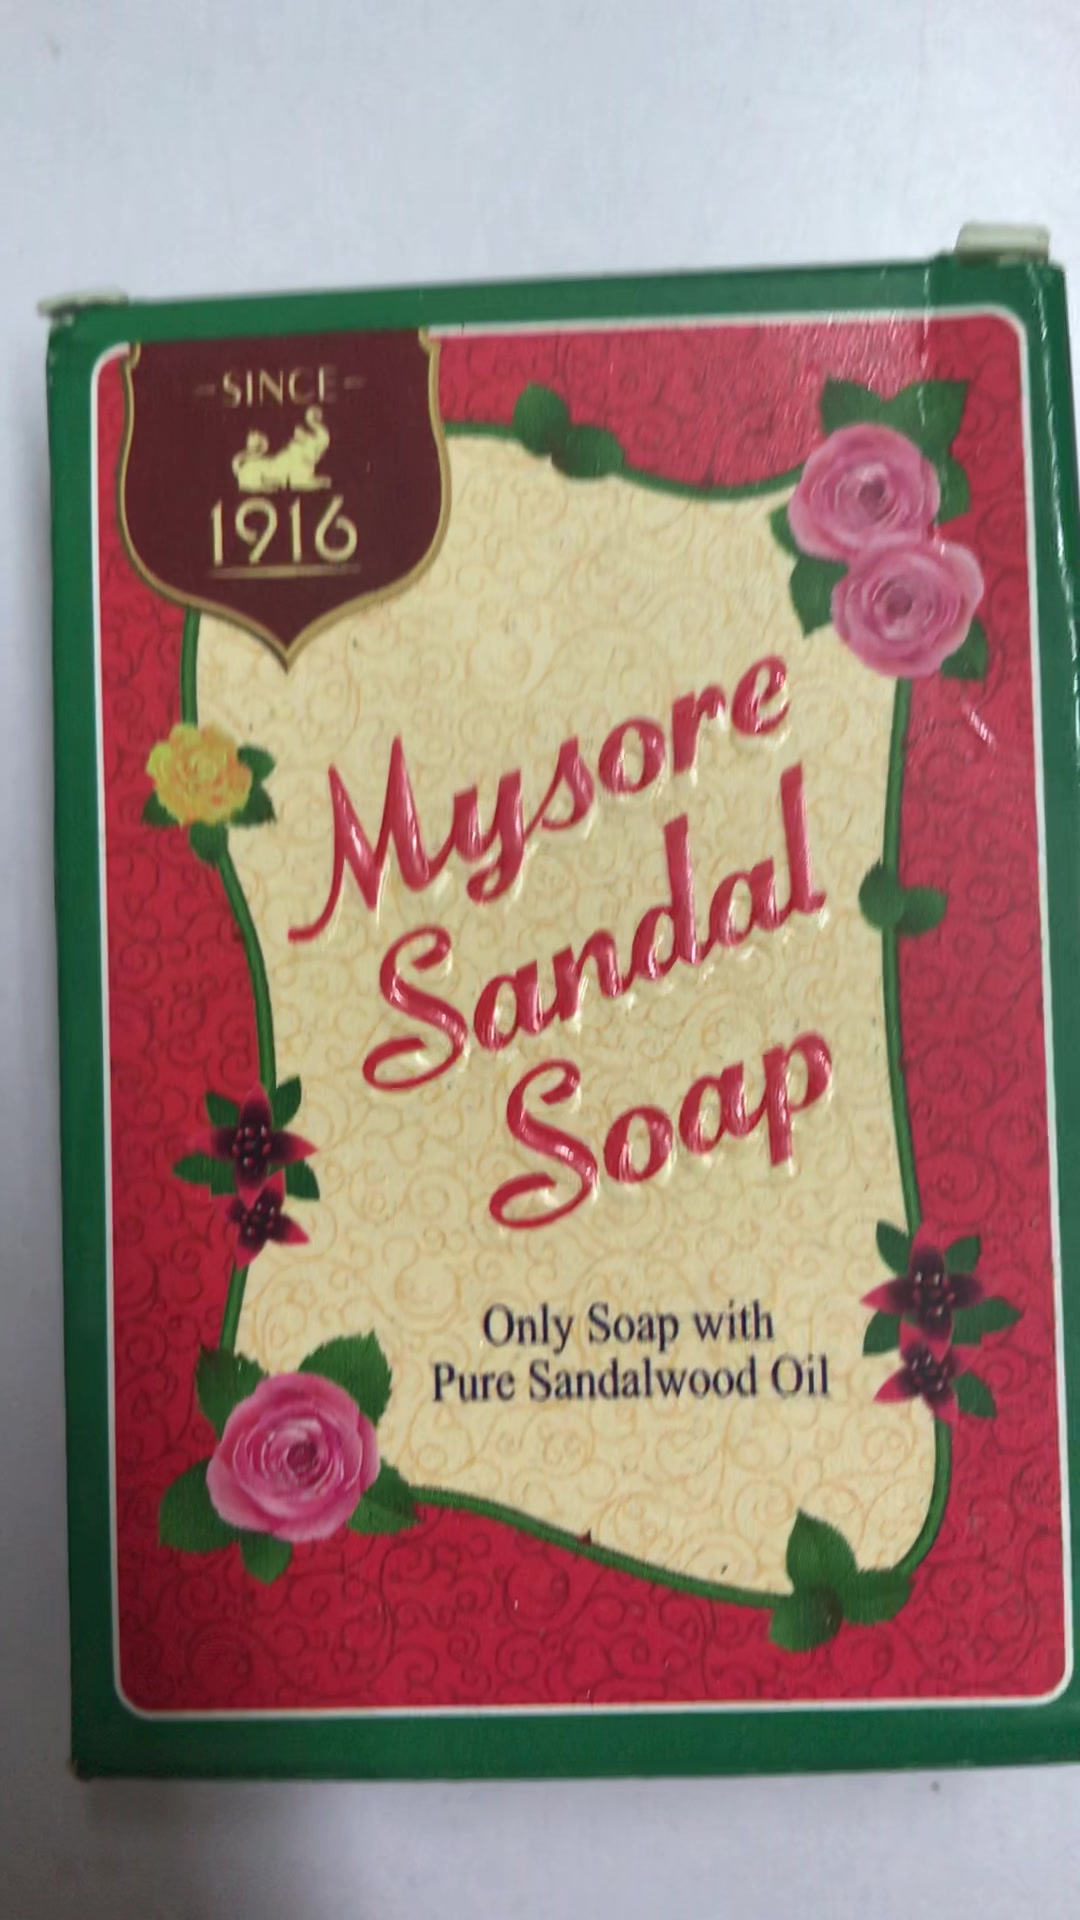mysore sandal soap: (63, 256, 1080, 1762)
